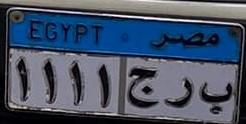1: (92, 59, 116, 108), (12, 53, 34, 104), (65, 58, 87, 107), (40, 55, 60, 104)
baa: (198, 74, 234, 114)
jeem: (127, 62, 159, 110)
raa: (163, 71, 193, 114)
